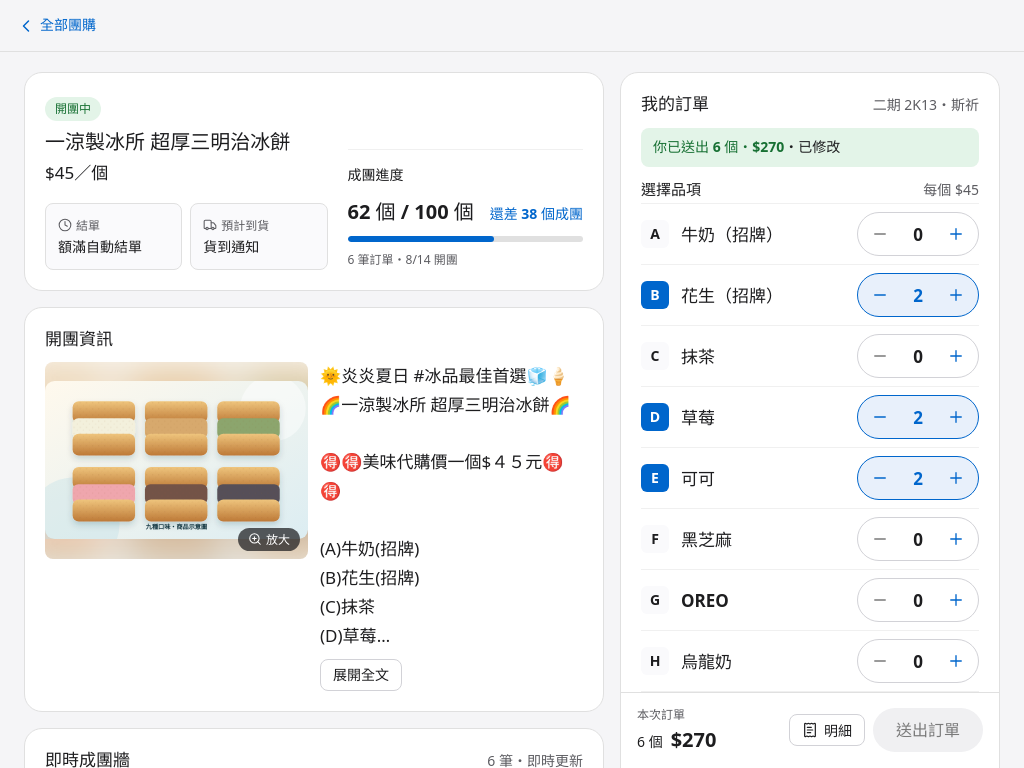
Test case: customer campaign app › leaves 原價 out of the breakdown when the campaign has no discount to compare it with
This screenshot has width=1024, height=768.
What coordinates should you click on to do the following:
click the button named "增加 A 牛奶（招牌）"
I would click on:
 (956, 234)
Its box is [934, 213, 978, 255].
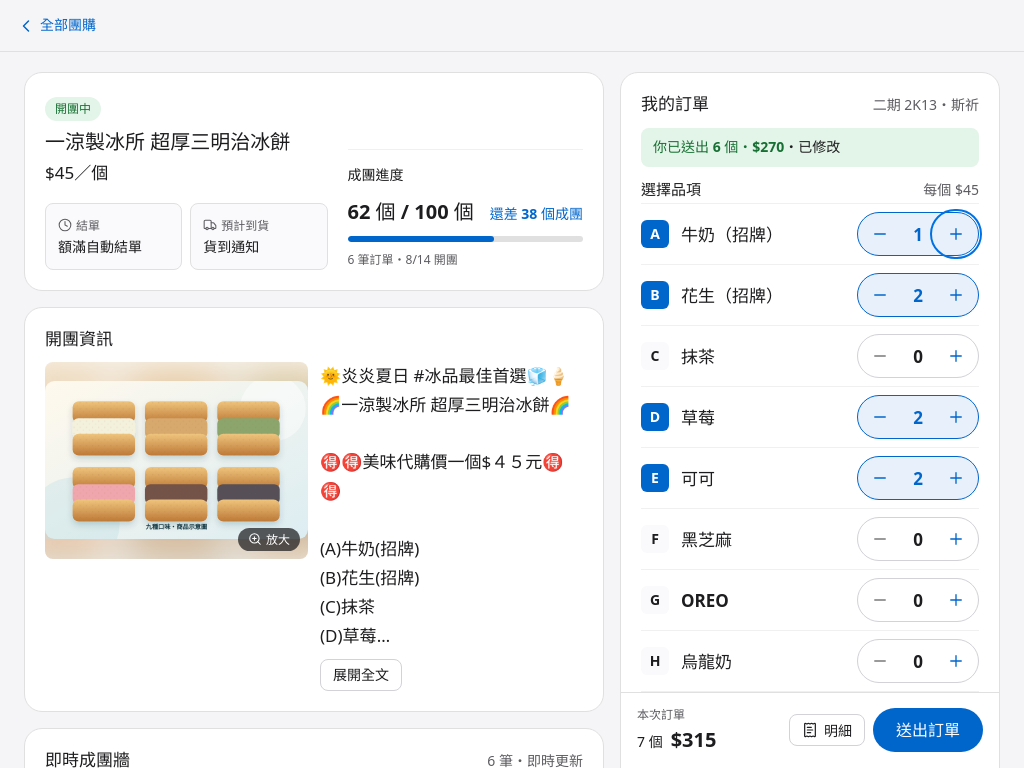
What coordinates should you click on to do the following:
click the button with aria-label "查看訂單明細"
I would click on:
 (827, 730)
Its box is [789, 714, 865, 746].
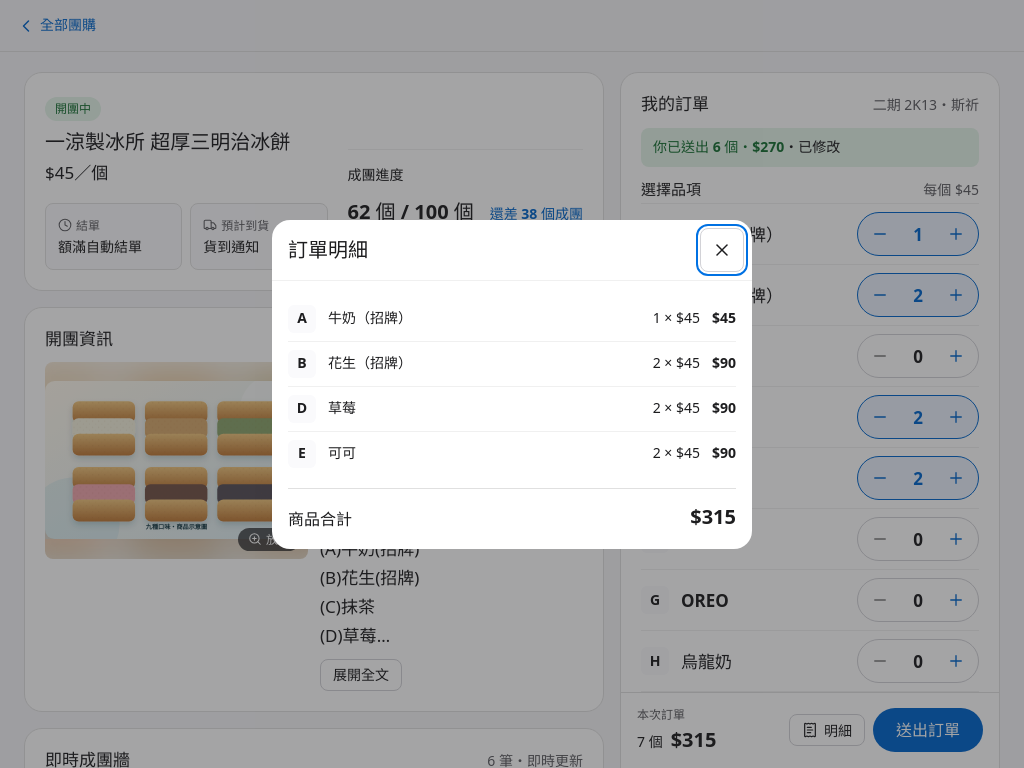
Check: the text "牛奶（招牌）" is shown, box [328, 308, 412, 327]
